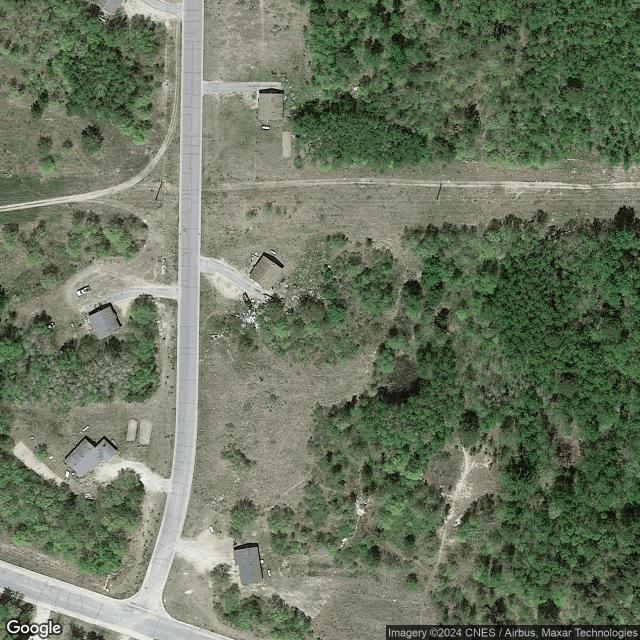Propane: (81, 424, 90, 433), (98, 15, 107, 23), (260, 125, 271, 130), (209, 524, 215, 533), (267, 568, 272, 578), (270, 249, 277, 255)
